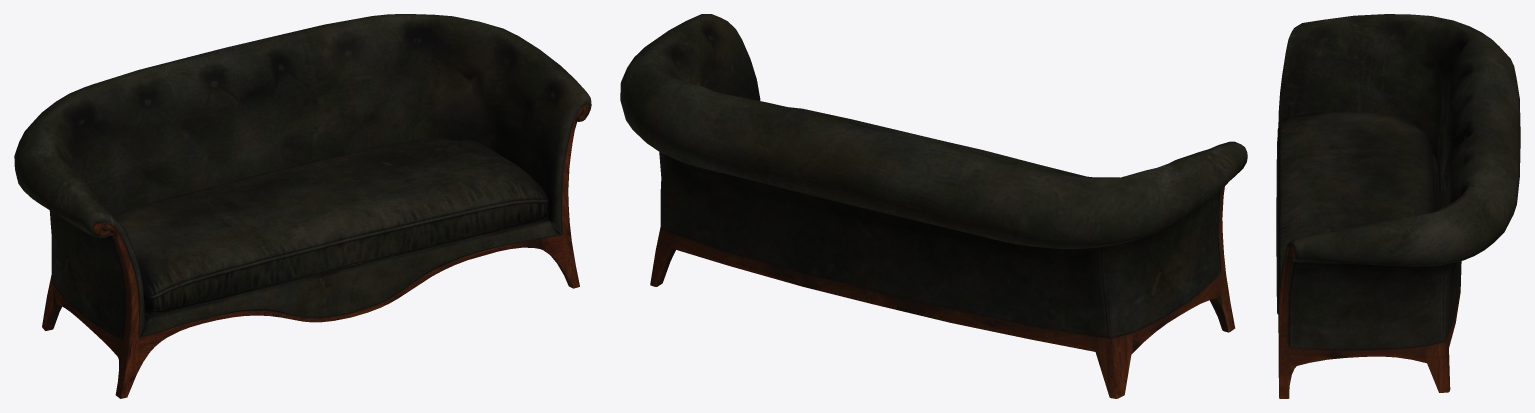
File: sofa_02.glb
3 views of the same model, side by side, from view 1: azimuth 30°, elevation 25°; view 2: azimuth 150°, elevation 25°; view 3: azimuth 270°, elevation 25° (orthographic). The views are drawn at different scales.
Visible parts, largest first — view 1: sofa_02_Base; view 2: sofa_02_Base; view 3: sofa_02_Base.
Part boxes in pixels (bbox=[...]): sofa_02_Base: bbox=[14, 14, 591, 398]; sofa_02_Base: bbox=[620, 14, 1247, 398]; sofa_02_Base: bbox=[1276, 14, 1520, 398].
Bounding box in the file's own units: 1.81 × 0.7095 × 0.8176.
Materials: 1 (1 with a texture image).
